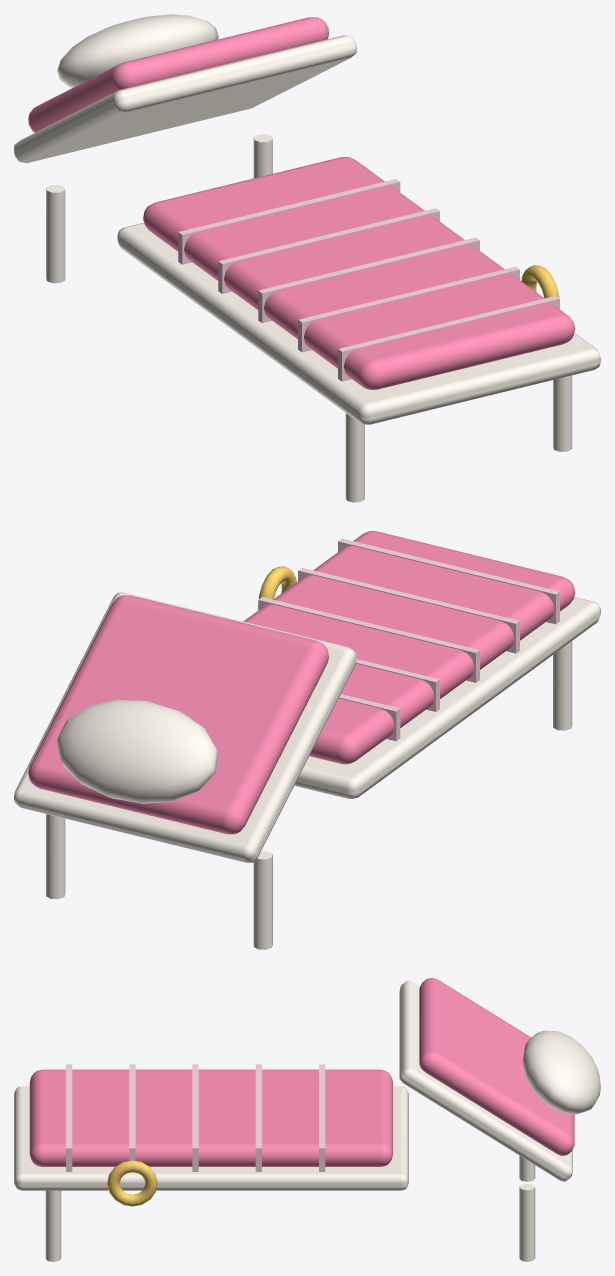
The model's file is lounger.glb.
3 renders of one model, top to bottom at view 1: azimuth 30°, elevation 25°; view 2: azimuth 150°, elevation 25°; view 3: azimuth 270°, elevation 25°, orthographic. The views are drawn at different scales.
Bounding box in the file's own units: 0.75 × 0.7103 × 1.86.
